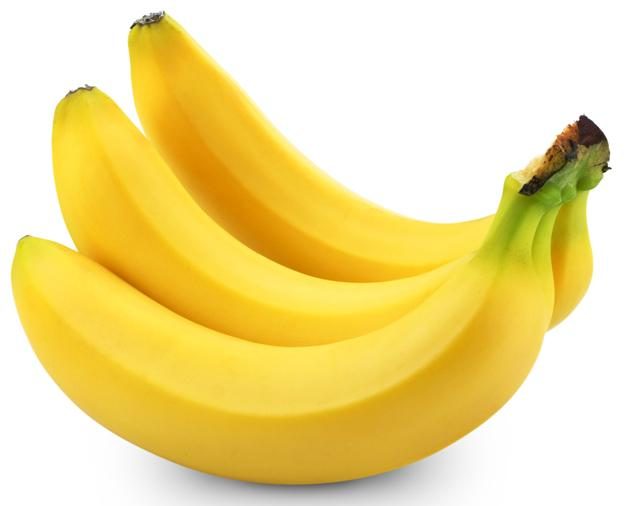banana: (9, 6, 610, 493)
